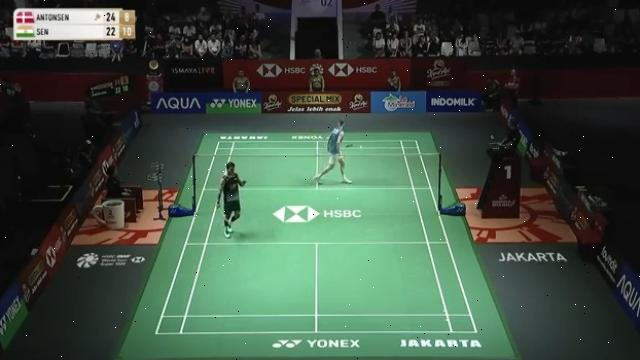Shuttlecock: (357, 140, 367, 150)
